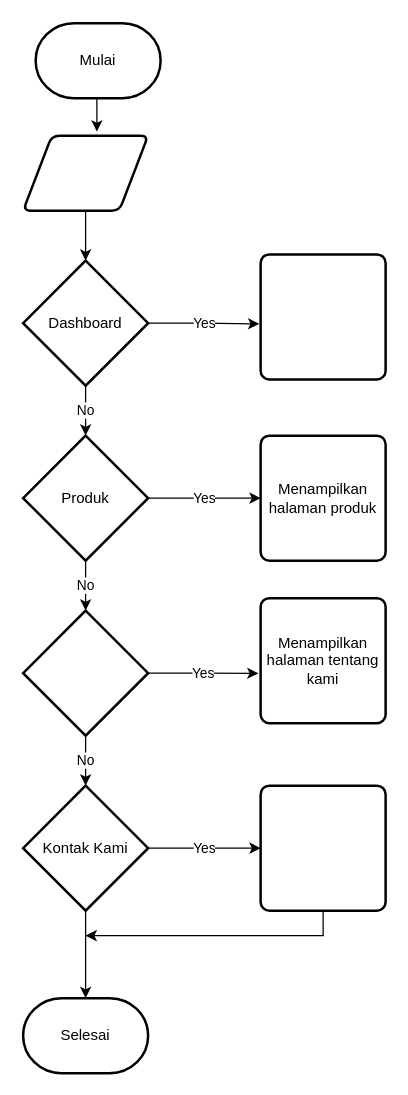
Image size: 408x1095. Some labels were removed from this diagram. The centre of each missing label's shape, as x and y in pixels:
Menampilkan halaman dashboard: point 322,316
Menampilkan halaman Kontak kami: point 322,847
Pilih Manu: point 85,172
Tentang Kami: point 85,672
